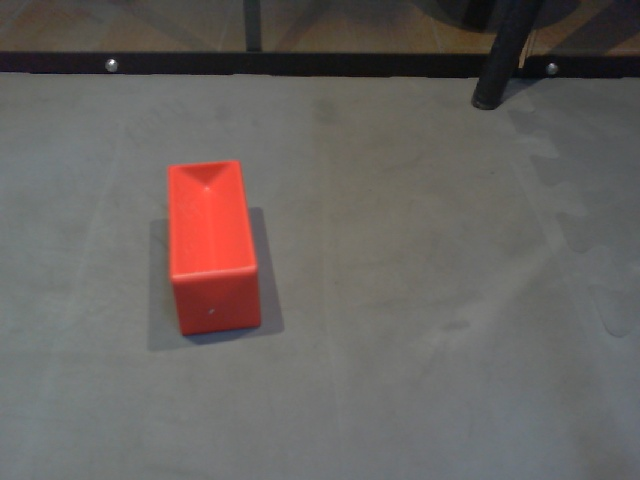RedSample: (159, 159, 262, 335)
